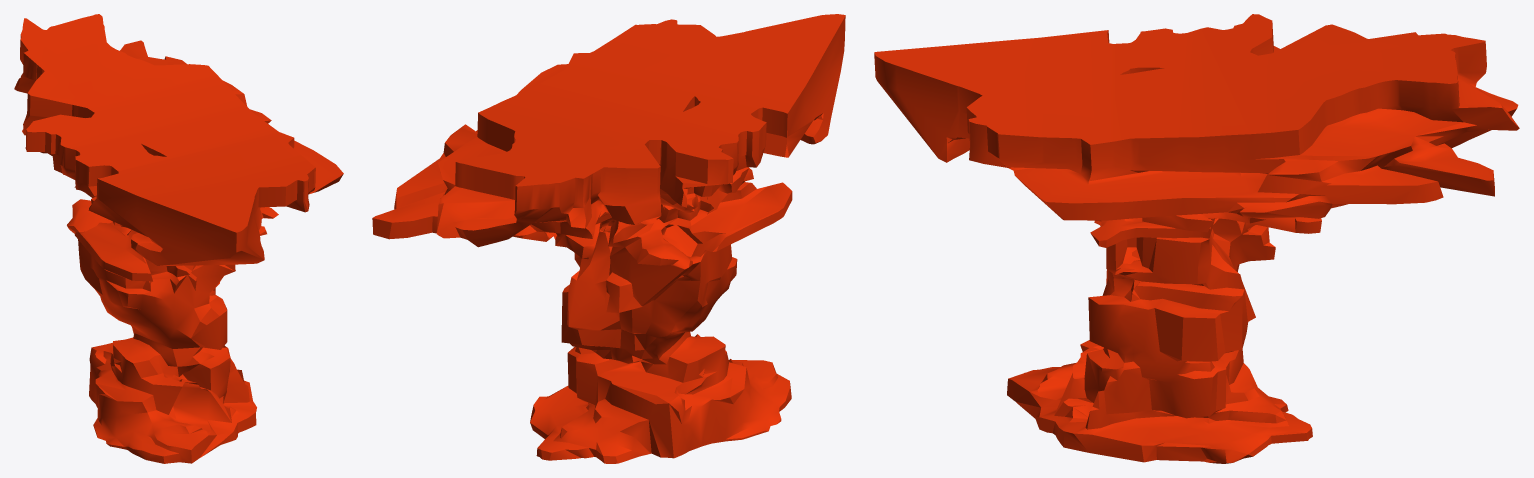
The model's file is canyon_rock_02.fbx.
3 renders of one model, left to right at view 1: azimuth 30°, elevation 25°; view 2: azimuth 150°, elevation 25°; view 3: azimuth 270°, elevation 25°, orthographic. The views are drawn at different scales.
Parts seen in each view (by area): view 1: Circle.029_cell.001; view 2: Circle.029_cell.001; view 3: Circle.029_cell.001.
Boxes of the visible parts, x1=… form: Circle.029_cell.001: x1=14, y1=14, x2=343, y2=463; Circle.029_cell.001: x1=372, y1=14, x2=845, y2=463; Circle.029_cell.001: x1=874, y1=14, x2=1519, y2=463.
Size of the model in its own units: 1196 by 1421 by 2250.
